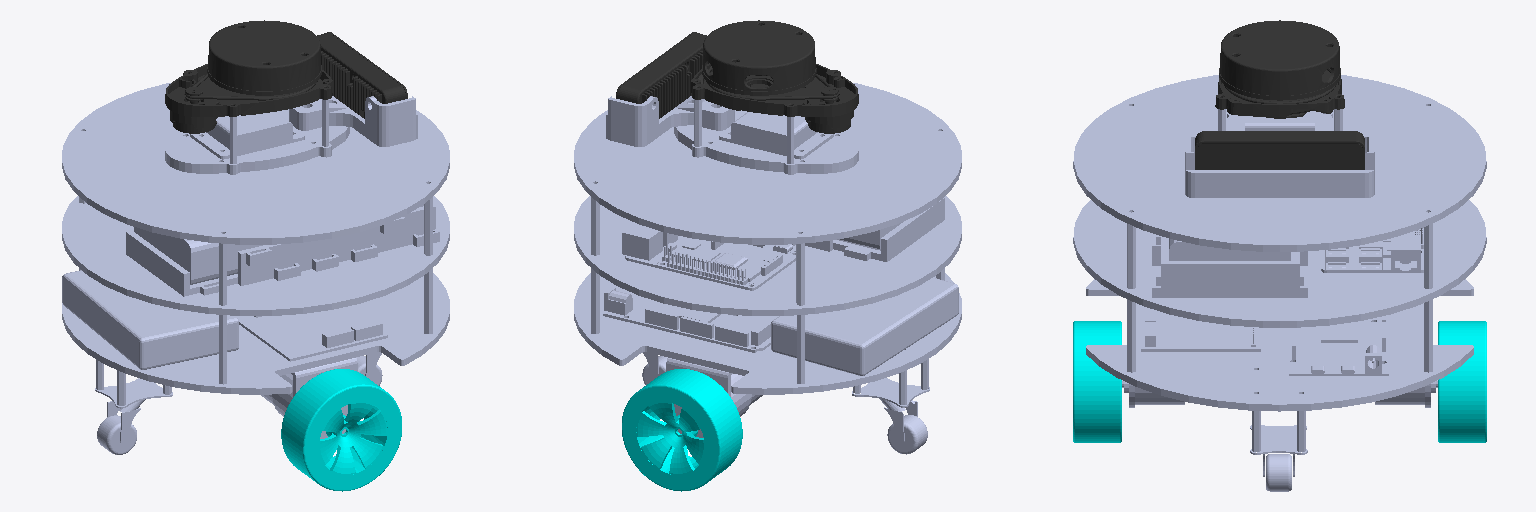
The robot description file, URDF, robot "slambot":
<?xml version="1.0" encoding="utf-8"?>
<!-- This URDF was automatically created by SolidWorks to URDF Exporter! Originally created by [author] ([email redacted]) 
     Commit Version: 1.6.0-4-g7f85cfe  Build Version: 1.6.7995.38578
     For more information, please see http://wiki.ros.org/sw_urdf_exporter -->
<robot
  name="slambot">
  <link
    name="base_link">
    <inertial>
      <origin
        xyz="-0.00486087456597608 0.0464146347438362 0.00611694047505629"
        rpy="0 0 0" />
      <mass
        value="1.20382005921554" />
      <inertia
        ixx="0.00159178309926774"
        ixy="-4.62464413444002E-06"
        ixz="3.2214445095357E-06"
        iyy="0.00372559343409888"
        iyz="-1.87575153377214E-07"
        izz="0.00221898802114069" />
    </inertial>
    <visual>
      <origin
        xyz="0 0 0"
        rpy="0 0 0" />
      <geometry>
        <mesh
          filename="package://slambot/meshes/base_link.STL" />
      </geometry>
      <material
        name="">
        <color
          rgba="0.792156862745098 0.819607843137255 0.933333333333333 1" />
      </material>
    </visual>
    <collision>
      <origin
        xyz="0 0 0"
        rpy="0 0 0" />
      <geometry>
        <mesh
          filename="package://slambot/meshes/leftwheel.STL" />
      </geometry>
    </collision>
  </link>
  <link
    name="leftwheel">
    <inertial>
      <origin
        xyz="-4.8380670515831E-08 0.0135771334623421 -4.19647629146258E-10"
        rpy="0 0 0" />
      <mass
        value="0.0495394216537742" />
      <inertia
        ixx="2.0755916521774E-05"
        ixy="4.59201786213402E-11"
        ixz="-1.70768760858627E-12"
        iyy="3.5904291421144E-05"
        iyz="1.80231596245394E-13"
        izz="2.07559164376357E-05" />
    </inertial>
    <visual>
      <origin
        xyz="0 0 0"
        rpy="0 0 0" />
      <geometry>
        <mesh
          filename="package://slambot/meshes/leftwheel.STL" />
      </geometry>
      <material
        name="">
        <color
          rgba="0 1 1 1" />
      </material>
    </visual>
    <collision>
      <origin
        xyz="0 0 0"
        rpy="0 0 0" />
      <geometry>
        <mesh
          filename="package://slambot/meshes/leftwheel.STL" />
      </geometry>
    </collision>
  </link>
  <joint
    name="leftjoint"
    type="fixed">
    <origin
      xyz="0 0.084104 -0.034"
      rpy="3.1416 0.20897 3.1416" />
    <parent
      link="base_link" />
    <child
      link="leftwheel" />
    <axis
      xyz="0 1 0" />
  </joint>
  <link
    name="rightwheel">
    <inertial>
      <origin
        xyz="-4.83806705166984E-08 0.0135771334623423 -4.1964761526847E-10"
        rpy="0 0 0" />
      <mass
        value="0.0495394216537743" />
      <inertia
        ixx="2.0755916521774E-05"
        ixy="4.59201786224344E-11"
        ixz="-1.7076876102805E-12"
        iyy="3.59042914211439E-05"
        iyz="1.80231588558602E-13"
        izz="2.07559164376357E-05" />
    </inertial>
    <visual>
      <origin
        xyz="0 0 0"
        rpy="0 0 0" />
      <geometry>
        <mesh
          filename="package://slambot/meshes/rightwheel.STL" />
      </geometry>
      <material
        name="">
        <color
          rgba="0 1 1 1" />
      </material>
    </visual>
    <collision>
      <origin
        xyz="0 0 0"
        rpy="0 0 0" />
      <geometry>
        <mesh
          filename="package://slambot/meshes/rightwheel.STL" />
      </geometry>
    </collision>
  </link>
  <joint
    name="rightjoint"
    type="fixed">
    <origin
      xyz="0 -0.084104 -0.034"
      rpy="0 0.20897 -3.1416" />
    <parent
      link="base_link" />
    <child
      link="rightwheel" />
    <axis
      xyz="0 1 0" />
  </joint>
  <link
    name="laser">
    <inertial>
      <origin
        xyz="0.00913303321578293 -0.00496043575591988 0.00349637918534401"
        rpy="0 0 0" />
      <mass
        value="0.0312409126906036" />
      <inertia
        ixx="8.87752522204387E-06"
        ixy="-1.27250165527674E-07"
        ixz="1.13333903281163E-07"
        iyy="1.44937401756783E-05"
        iyz="3.35911337403875E-08"
        izz="2.25289098198674E-05" />
    </inertial>
    <visual>
      <origin
        xyz="0 0 0"
        rpy="0 0 0" />
      <geometry>
        <mesh
          filename="package://slambot/meshes/laser.STL" />
      </geometry>
      <material
        name="">
        <color
          rgba="0.250980392156863 0.250980392156863 0.250980392156863 1" />
      </material>
    </visual>
    <collision>
      <origin
        xyz="0 0 0"
        rpy="0 0 0" />
      <geometry>
        <mesh
          filename="package://slambot/meshes/laser.STL" />
      </geometry>
    </collision>
  </link>
  <joint
    name="laserjoint"
    type="fixed">
    <origin
      xyz="0 -0.0051063 0.14195"
      rpy="0 0 -3.1401" />
    <parent
      link="base_link" />
    <child
      link="laser" />
    <axis
      xyz="0 0 0" />
  </joint>
  <link
    name="depth">
    <inertial>
      <origin
        xyz="0.040807630537116 -0.01110143348578 0.00935971482762341"
        rpy="0 0 0" />
      <mass
        value="0.0200496149799104" />
      <inertia
        ixx="1.55788313722684E-06"
        ixy="1.44225555251865E-08"
        ixz="-1.9733710189472E-09"
        iyy="1.39532384304395E-05"
        iyz="4.68005216145946E-09"
        izz="1.5166113650296E-05" />
    </inertial>
    <visual>
      <origin
        xyz="0 0 0"
        rpy="0 0 0" />
      <geometry>
        <mesh
          filename="package://slambot/meshes/depth.STL" />
      </geometry>
      <material
        name="">
        <color
          rgba="0.250980392156863 0.250980392156863 0.250980392156863 1" />
      </material>
    </visual>
    <collision>
      <origin
        xyz="0 0 0"
        rpy="0 0 0" />
      <geometry>
        <mesh
          filename="package://slambot/meshes/depth.STL" />
      </geometry>
    </collision>
  </link>
  <joint
    name="depthjoint"
    type="fixed">
    <origin
      xyz="0.055405 0.041 0.1165"
      rpy="-1.5708 0 -1.5708" />
    <parent
      link="base_link" />
    <child
      link="depth" />
    <axis
      xyz="0 0 1" />
    <limit
      lower="0"
      upper="0"
      effort="0"
      velocity="0" />
  </joint>
</robot>

--- Facts derived from the render (not from the file) ---
Views: 3 orthographic renders of the robot side by side, from view 1: azimuth 30°, elevation 25°; view 2: azimuth 150°, elevation 25°; view 3: azimuth 270°, elevation 25°.
Model slambot with 5 links and 4 joints (4 fixed), rooted at base_link, posed every joint at zero.
Visible links, largest first — view 1: base_link, laser, rightwheel, depth; view 2: base_link, laser, leftwheel, depth; view 3: base_link, laser, depth, leftwheel, rightwheel.
Boxes of the visible links, box(x1,y1,x2,y2) form: base_link: box(62, 83, 449, 454); laser: box(165, 20, 332, 133); rightwheel: box(281, 369, 401, 491); depth: box(317, 32, 407, 118); base_link: box(574, 83, 961, 454); laser: box(691, 20, 858, 133); leftwheel: box(622, 369, 742, 491); depth: box(616, 32, 708, 118); base_link: box(1073, 75, 1486, 491); laser: box(1215, 20, 1344, 118); depth: box(1195, 131, 1364, 169); leftwheel: box(1438, 321, 1486, 442); rightwheel: box(1073, 321, 1121, 442).
Size in the robot's own frame: 0.22 by 0.2202 by 0.2331 metres.
Meshes: 5 distinct files referenced, 5 mesh visuals loaded (5 binary STL).